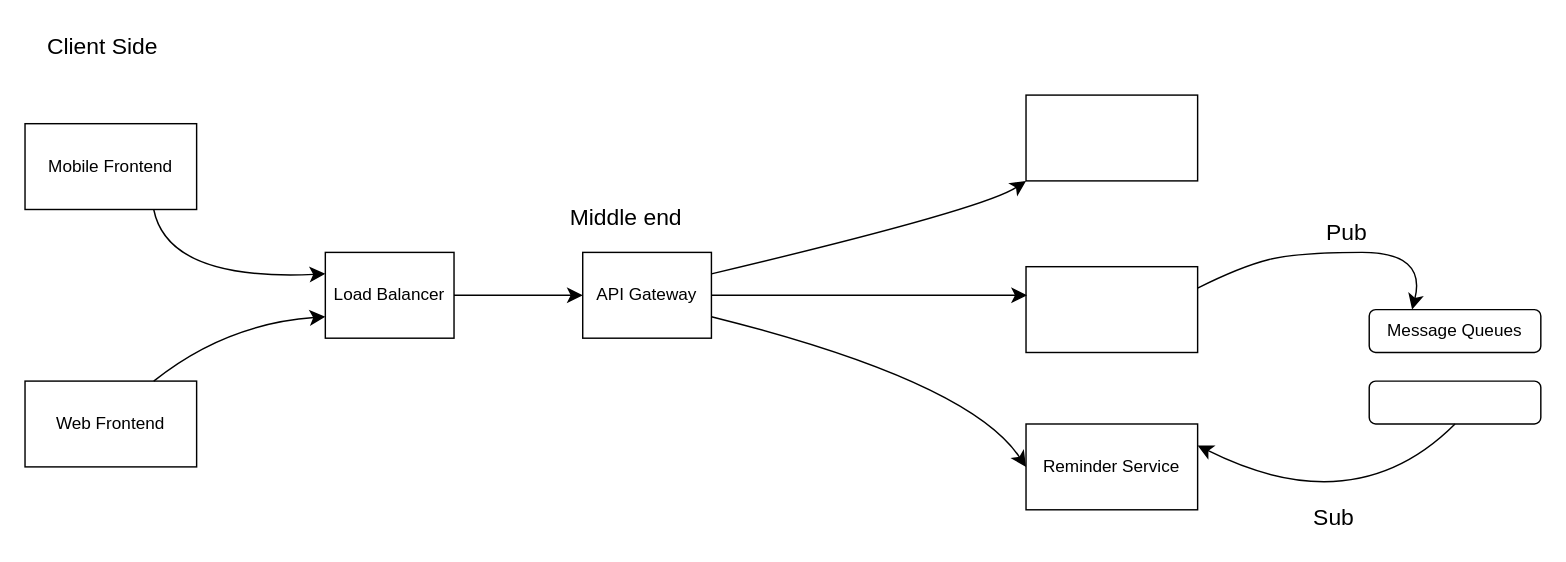
Image size: 1566x562. Some labels were removed from this diagram. Each missing label, with the centre of its shape:
"Booking Service" belongs at (1111,308).
"Message Queue" belongs at (1454,402).
"Search Service" belongs at (1111,137).
